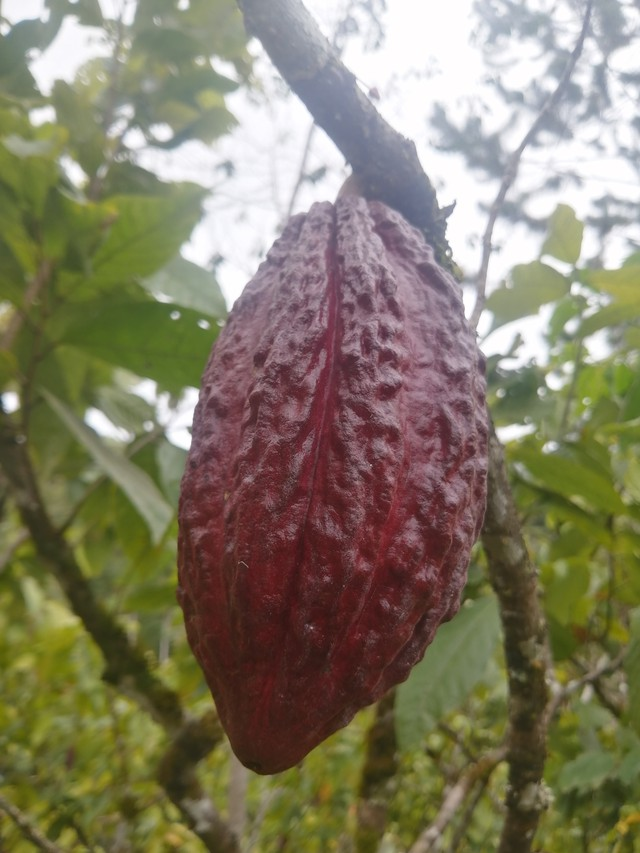Health: (154, 189, 502, 782)
